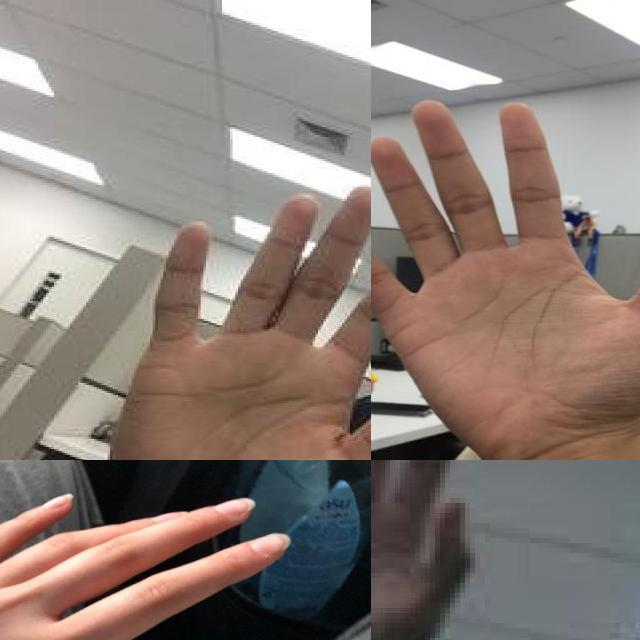hand: (371, 97, 640, 453), (104, 183, 371, 460), (0, 492, 293, 640), (371, 460, 483, 640)
